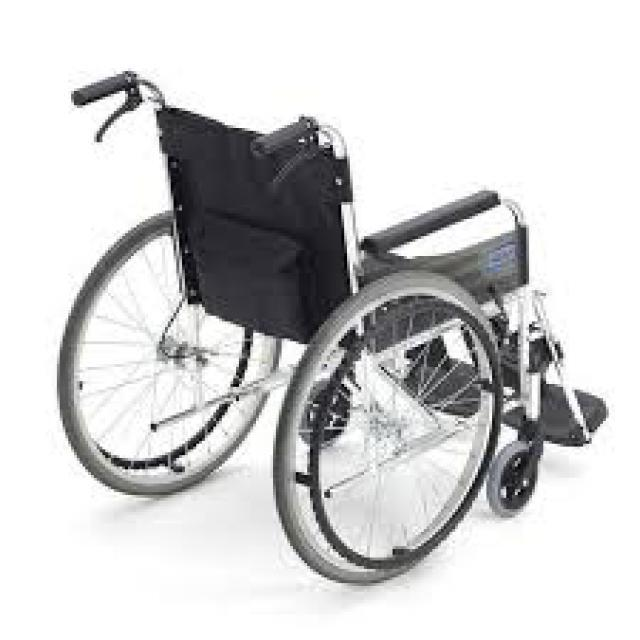wheelchair: (40, 51, 614, 586)
